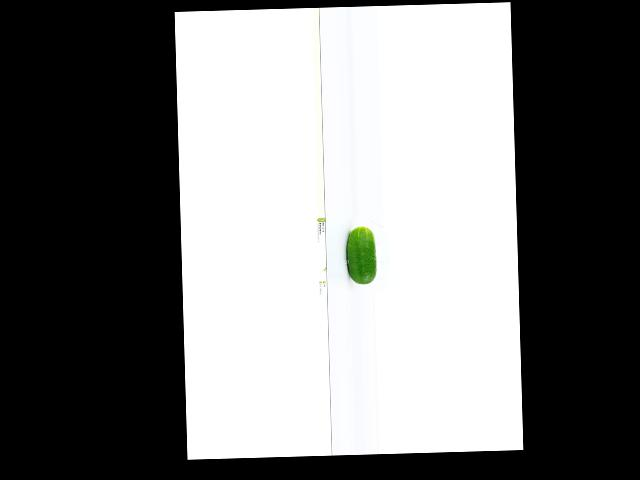cucumber: (345, 226, 376, 285)
